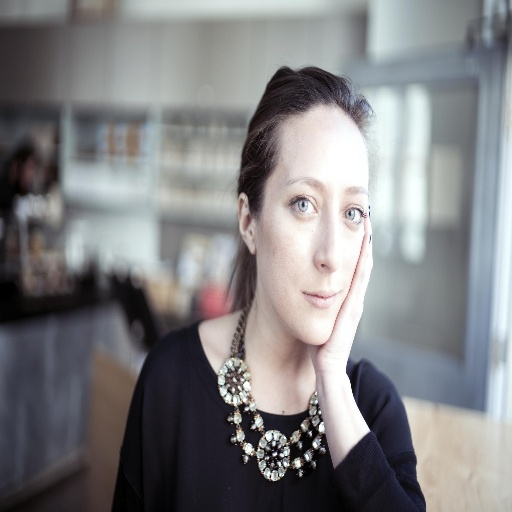hand: (307, 204, 374, 374)
